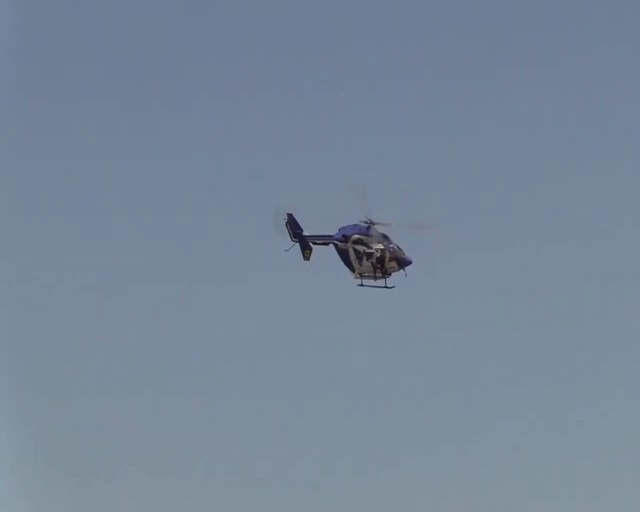HELICOPTER: (281, 211, 414, 290)
